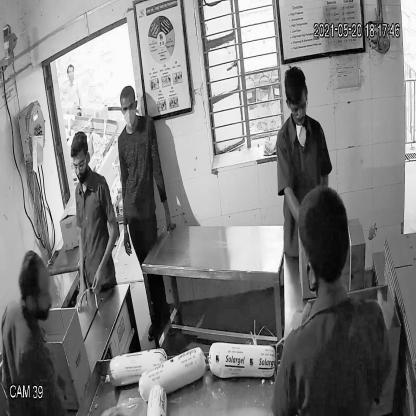goggles: (286, 98, 311, 118), (72, 154, 88, 172)
no_goggles: (119, 98, 140, 116)
